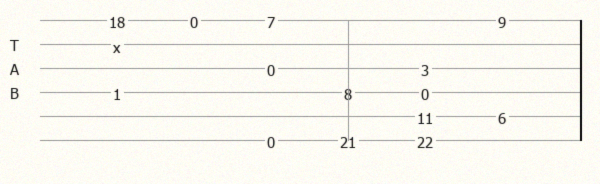0: (190, 13, 202, 28), (267, 133, 279, 148), (267, 61, 279, 76), (421, 85, 433, 100)
1: (113, 85, 125, 100)
11: (417, 109, 437, 124)
18: (109, 13, 129, 28)
21: (340, 133, 360, 148)
22: (417, 133, 437, 148)
3: (421, 61, 433, 76)
6: (498, 109, 510, 124)
7: (267, 13, 279, 28)
8: (344, 85, 356, 100)
9: (498, 13, 510, 28)
x: (113, 38, 125, 50)
